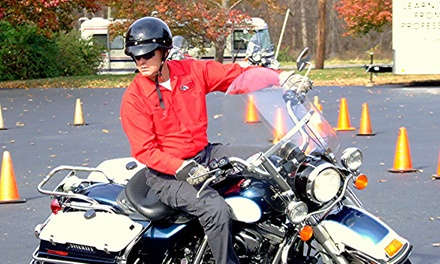helmet: (120, 13, 176, 81)
